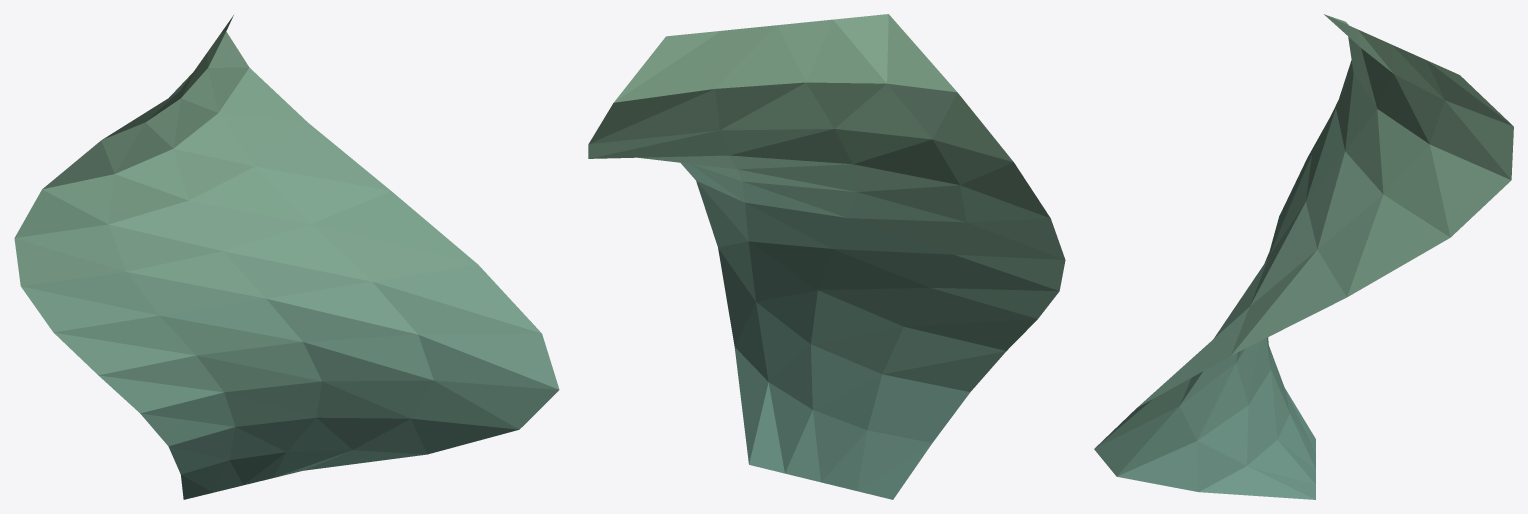
Rendered from Ribbon.gltf.
3 views of the same model, side by side, from view 1: azimuth 30°, elevation 25°; view 2: azimuth 150°, elevation 25°; view 3: azimuth 270°, elevation 25° (orthographic). The views are drawn at different scales.
Parts seen in each view (by area): view 1: Ribbon; view 2: Ribbon; view 3: Ribbon.
Part boxes in pixels (box(x1,y1,x2,y2)): Ribbon: box(14, 15, 559, 499); Ribbon: box(588, 14, 1065, 499); Ribbon: box(1094, 14, 1513, 499).
Size of the model in its own units: 1.1 by 1 by 0.8958.
